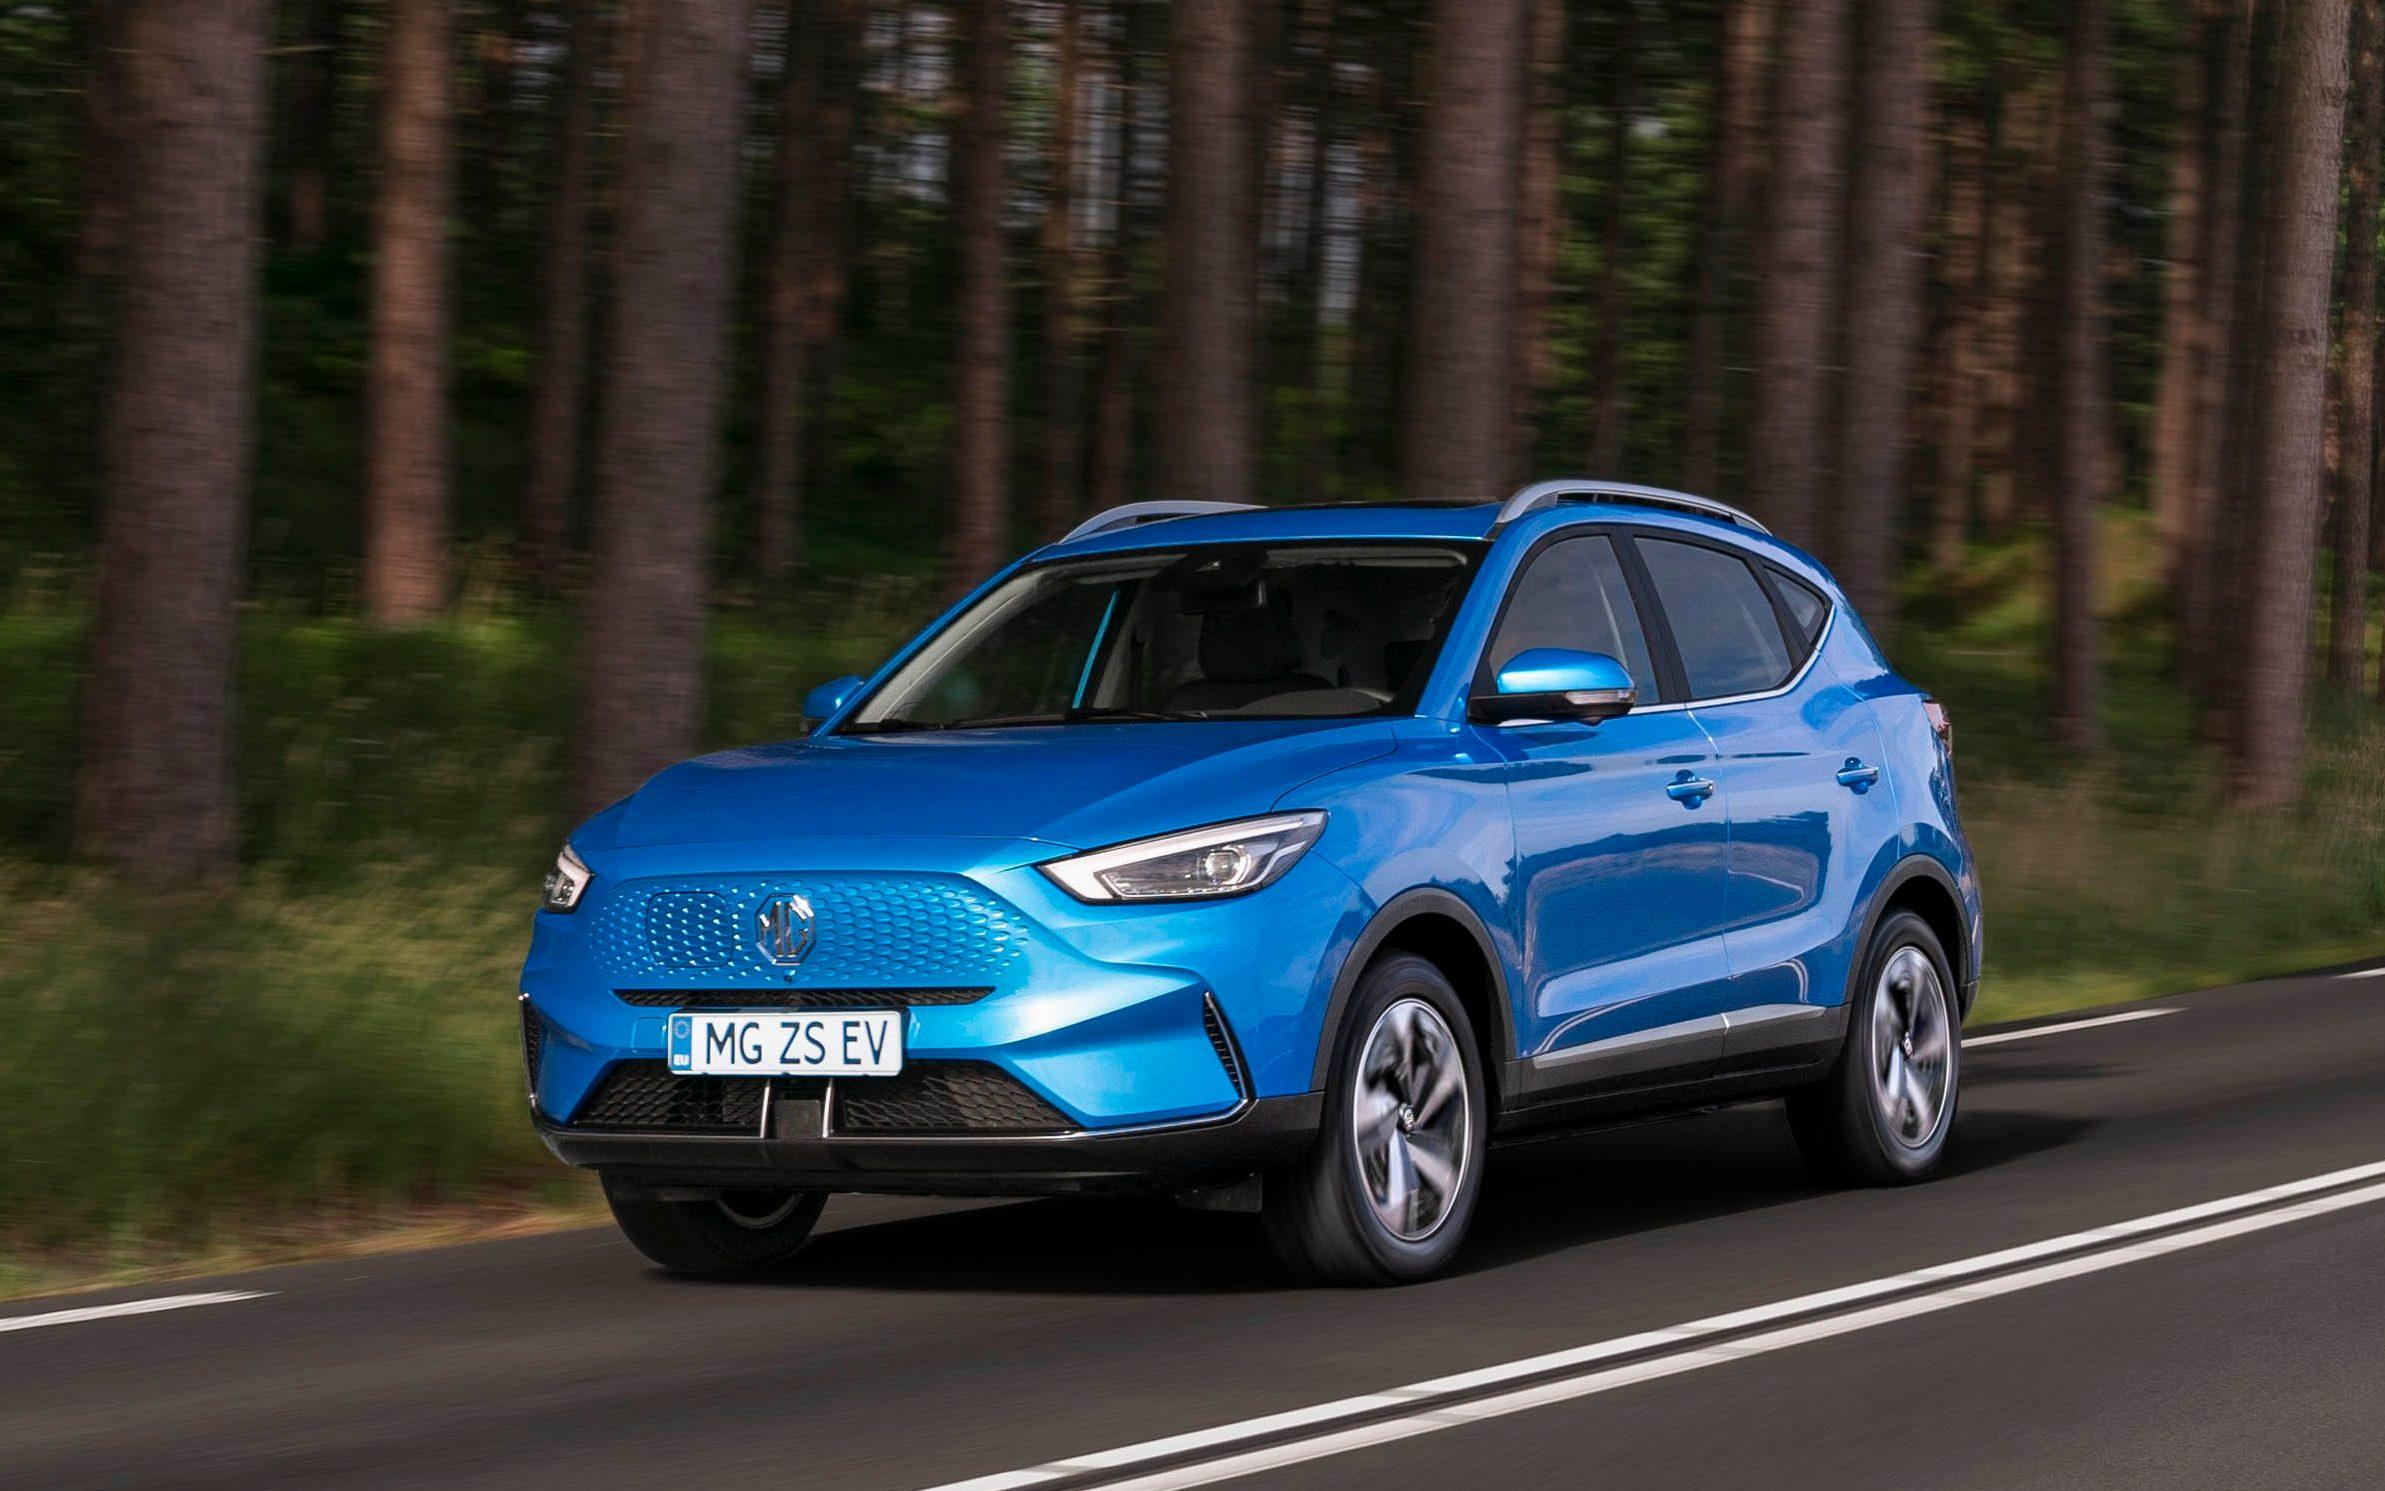windshield: (816, 510, 1496, 740)
